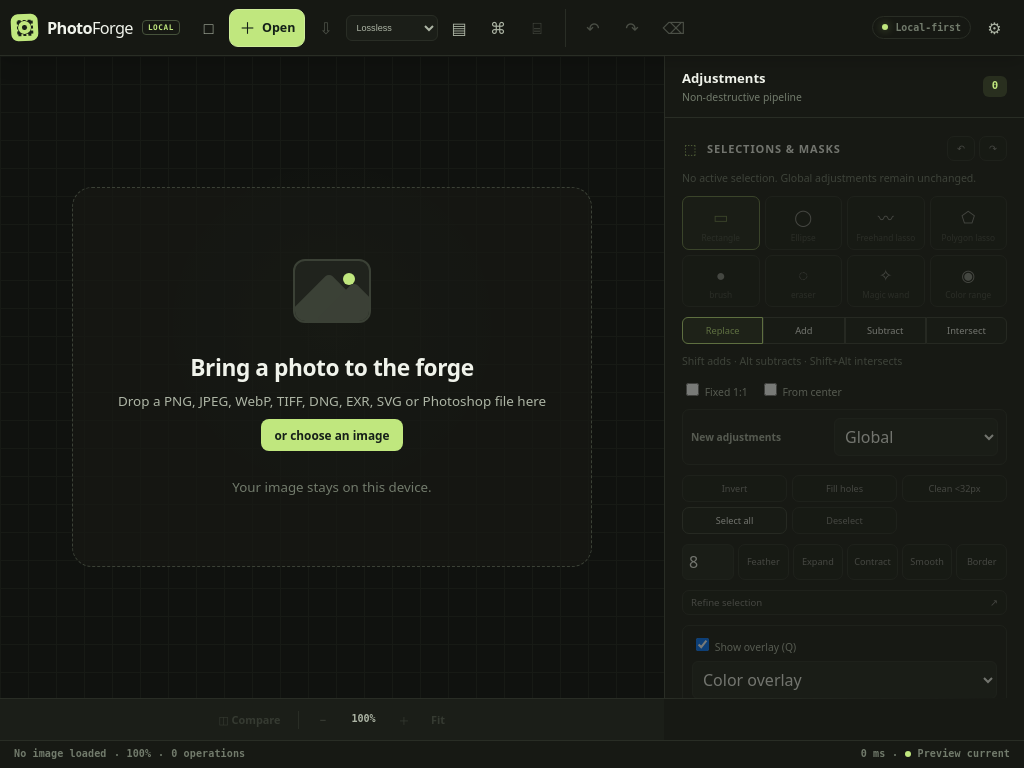
it: the command palette in the application › opens on Ctrl+Shift+P, even with nothing open, and from the header button
This screenshot has width=1024, height=768.
Press P
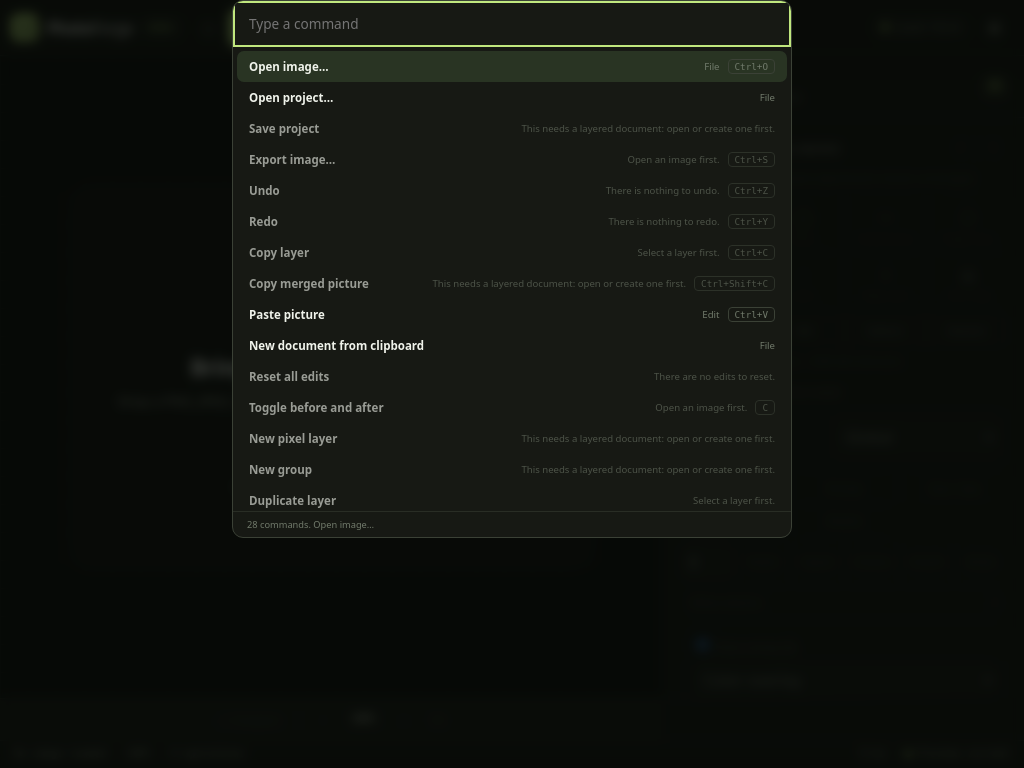
Expected: the list named "Commands" is shown, [233,47,791,511]
Press Escape in the dropdown named "Search commands", box [233,1,791,47]
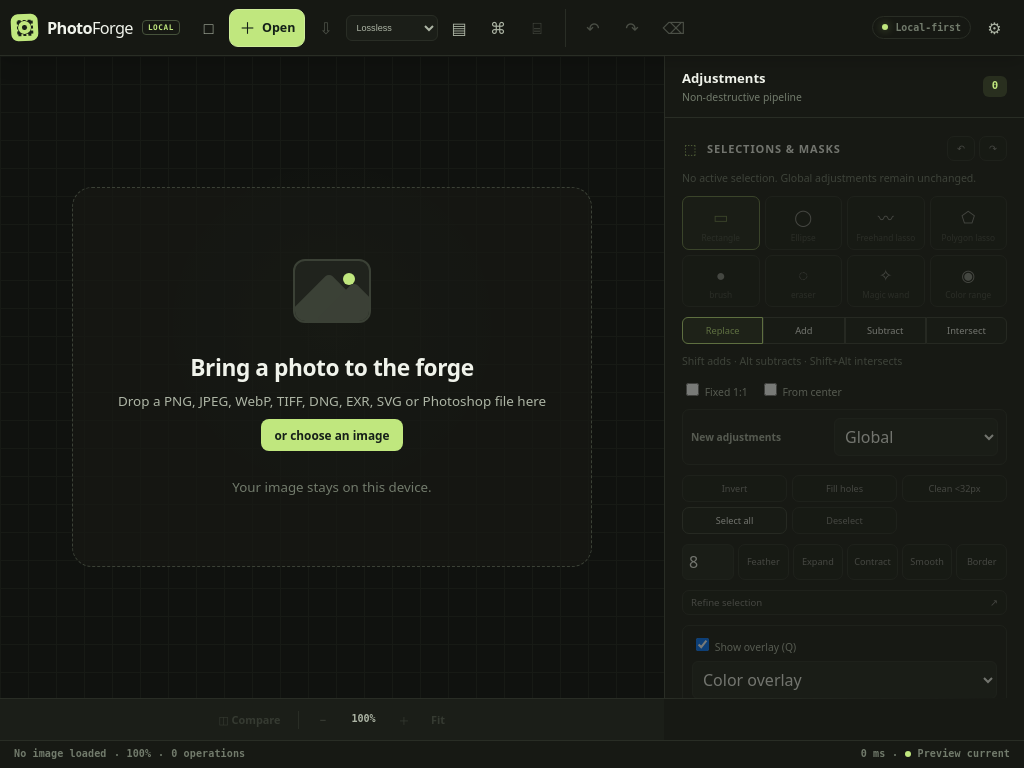
Click the button named "Commands" at (498, 28), box [479,8,516,46]
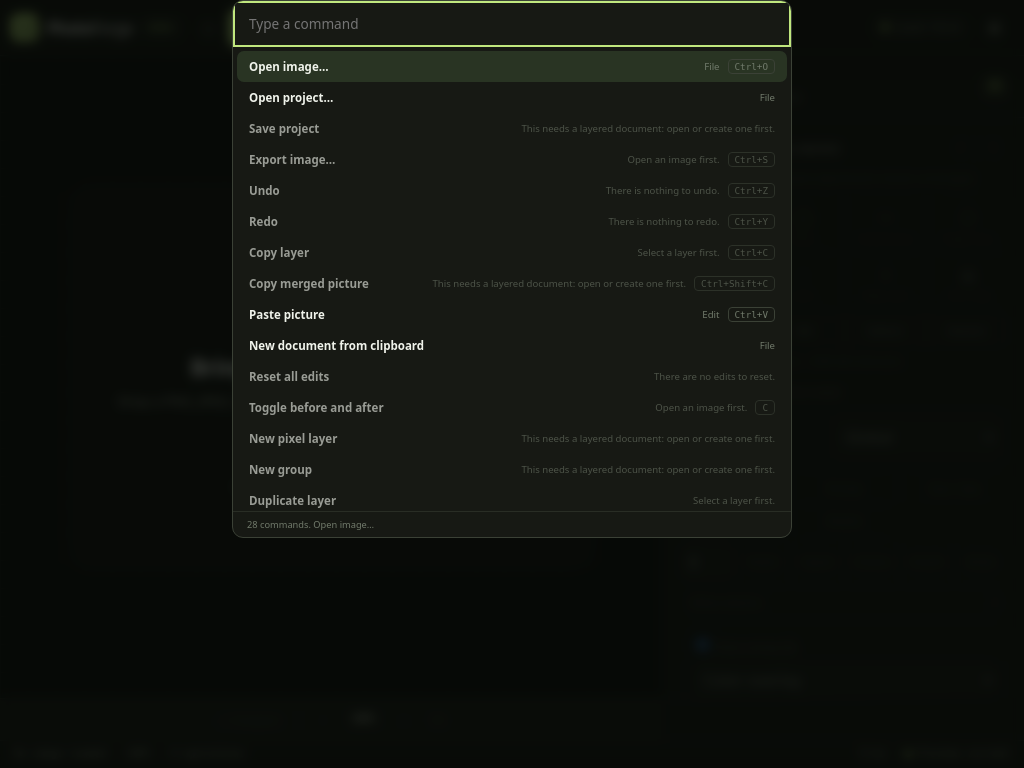
Expected: the dropdown named "Search commands" is shown, [233,1,791,47]
